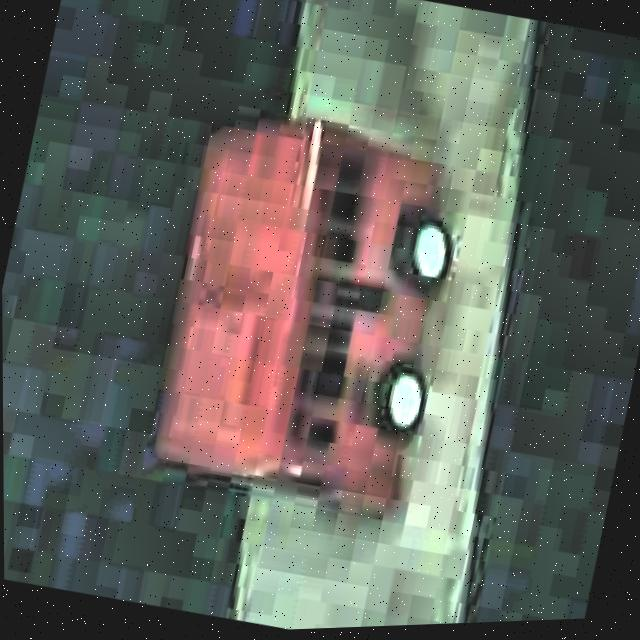bus: (129, 88, 483, 533)
